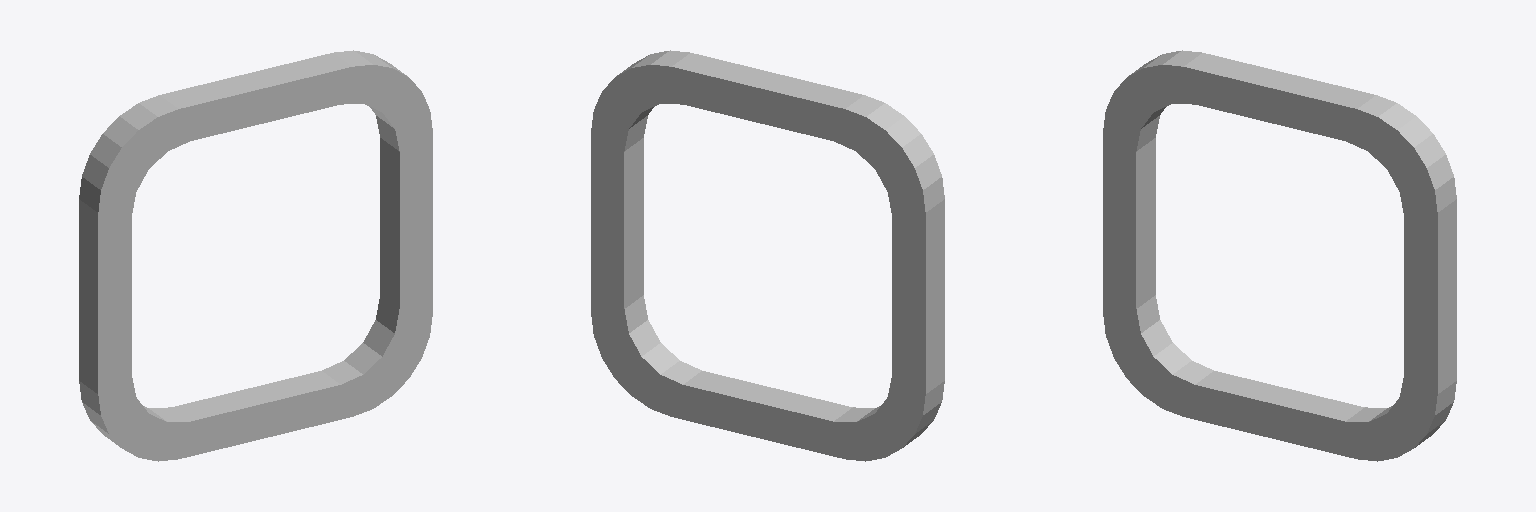
Rendered from rounded.obj.
3 views of the same model, side by side, from view 1: azimuth 30°, elevation 25°; view 2: azimuth 150°, elevation 25°; view 3: azimuth 330°, elevation 25° (orthographic).
Visible parts, largest first — view 1: Cube; view 2: Cube; view 3: Cube.
Boxes of the visible parts, x1,y1,x2,y2 form: Cube: [79, 50, 432, 461]; Cube: [591, 50, 944, 461]; Cube: [1103, 50, 1456, 461].
Bounding box in the file's own units: 2 × 2 × 0.2.